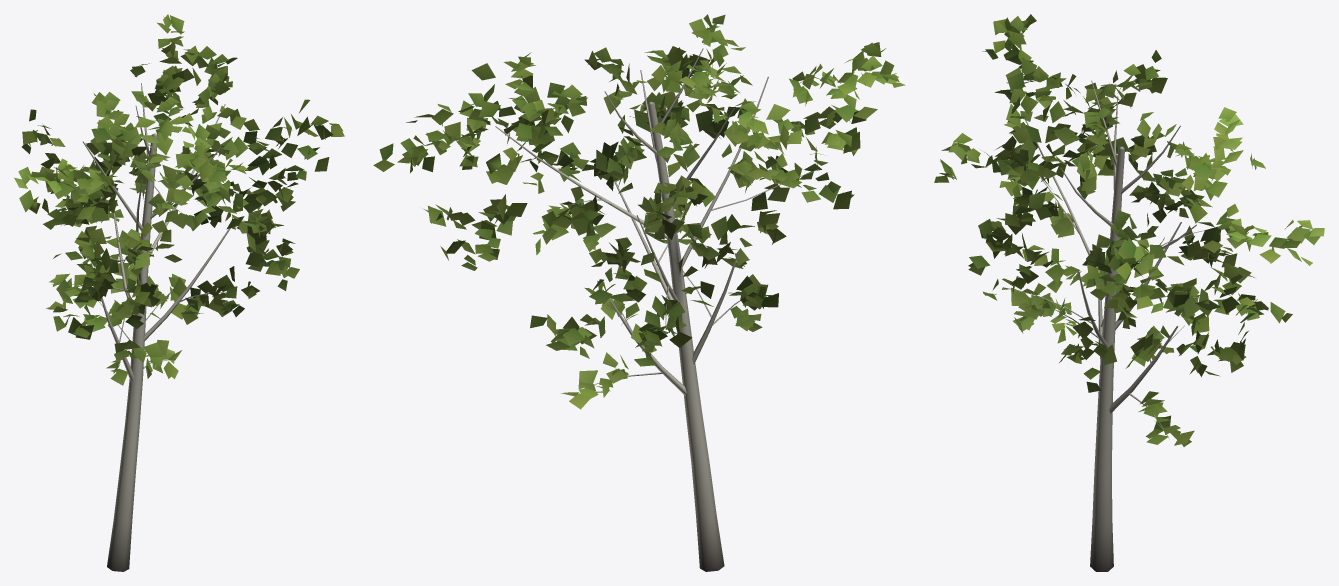
Rendered from birch-b.lod1.glb.
3 views of the same model, side by side, from view 1: azimuth 30°, elevation 25°; view 2: azimuth 150°, elevation 25°; view 3: azimuth 270°, elevation 25° (orthographic). The views are drawn at different scales.
Size of the model in its own units: 7.16 by 8.56 by 5.88.
